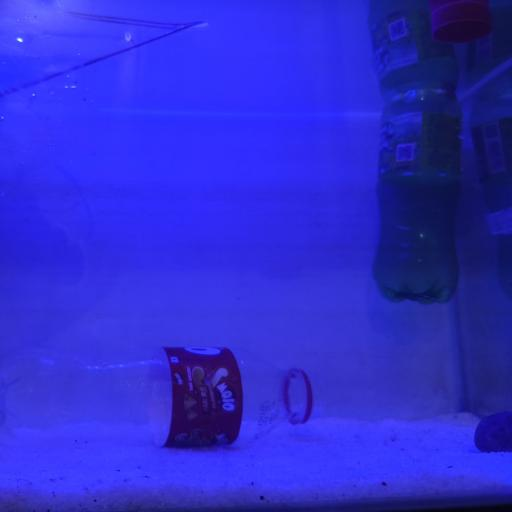bottle_cap: (430, 0, 497, 37)
plastic_bottle: (17, 348, 323, 450), (376, 78, 468, 304)
